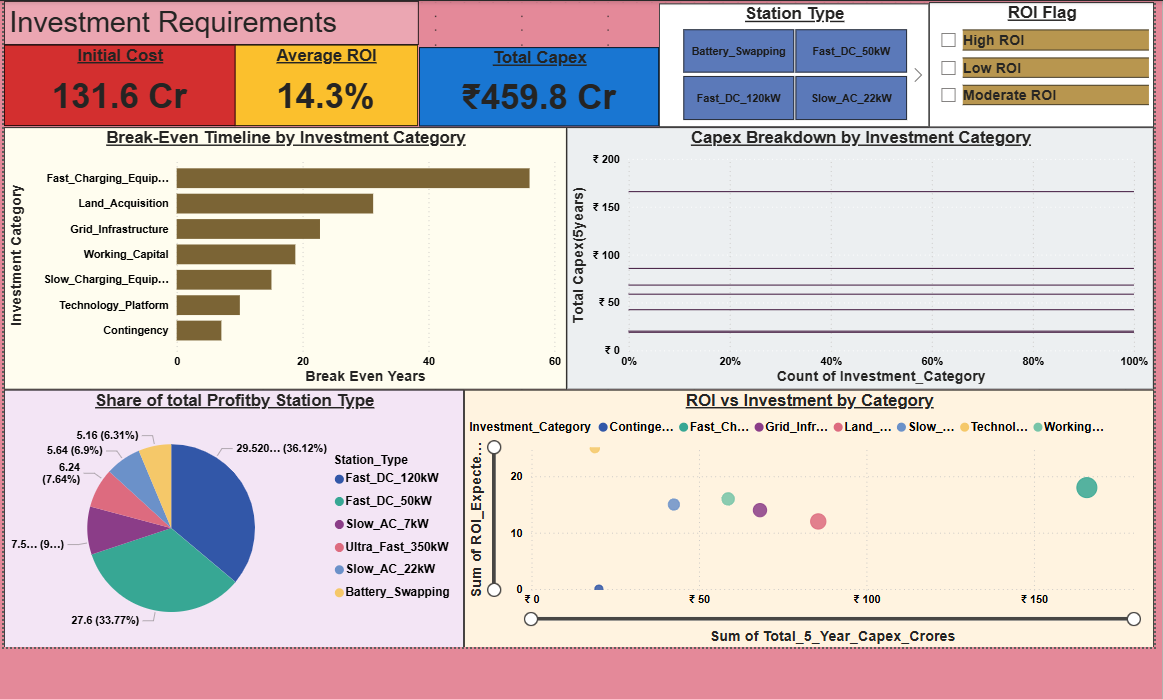

This screenshot's page, from the dashboard's own definition file:
{"tool":"powerbi","page":{"name":"Investment Requirements","canvas":[1280,720],"ordinal":4},"visuals":[{"type":"hundredPercentStackedBarChart","title":"Capex Breakdown by Investment Category","fields":{"Y":["CountNonNull(Investment_Requirements.Investment_Category)"],"Category":["Investment_Requirements.Total_5_Year_Capex_Crores"]},"box":[626.1,140.5,653.9,292.2],"z":0},{"type":"scatterChart","title":"ROI vs Investment by Category","fields":{"X":["Sum(Investment_Requirements.Total_5_Year_Capex_Crores)"],"Y":["Sum(Investment_Requirements.ROI_Expected_Percent)"],"Size":["Sum(Investment_Requirements.Initial_Cost_Crores)"],"Series":["Investment_Requirements.Investment_Category"]},"box":[512,432.7,768,288],"z":1000},{"type":"card","title":"Total Capex","fields":{"Values":["Investment_Requirements.Total_Capex"]},"box":[461.9,51.5,267.1,87.7],"z":2000},{"type":"card","title":"Average ROI","fields":{"Values":["Investment_Requirements.Average_ROI"]},"box":[256,48.7,204.5,90.4],"z":3000},{"type":"card","title":"Initial Cost","fields":{"Values":["Investment_Requirements.Initialcostformat"]},"box":[0,48.7,257.4,90.4],"z":4000},{"type":"pieChart","title":"Share of total Profitby Station Type","fields":{"Category":["StationTbl.Station_Type"],"Y":["Sum(StationTbl.Annual_Profit_Lakhs)"]},"box":[0,432.7,512,288],"z":5000},{"type":"clusteredBarChart","title":"Break-Even Timeline by Investment Category","fields":{"Category":["Investment_Requirements.Investment_Category"],"Y":["Investment_Requirements.Break_Even_Years"]},"box":[0,140.5,626.1,292.2],"z":6000},{"type":"textbox","box":[0,0,461.9,48.7],"z":7000},{"type":"slicer","title":"ROI Flag","fields":{"Values":["Investment_Requirements.ROI_Flag"]},"box":[1029.6,1.4,250.4,139.1],"z":8000},{"type":"slicer","title":"Station Type","fields":{"Values":["StationTbl.Station_Type"]},"box":[729,2.8,300.5,137.7],"z":9000}]}

Visuals, with their boxes in screenshot pixels (x1, y1, x2, y2):
"Capex Breakdown by Investment Category" hundredPercentStackedBarChart: (564, 126, 1150, 388)
"ROI vs Investment by Category" scatterChart: (462, 388, 1150, 646)
"Total Capex" card: (417, 46, 656, 125)
"Average ROI" card: (232, 44, 416, 125)
"Initial Cost" card: (3, 44, 234, 125)
"Share of total Profitby Station Type" pieChart: (3, 388, 462, 646)
"Break-Even Timeline by Investment Category" clusteredBarChart: (3, 126, 564, 388)
textbox: (3, 0, 417, 44)
"ROI Flag" slicer: (926, 1, 1150, 126)
"Station Type" slicer: (656, 3, 925, 126)
